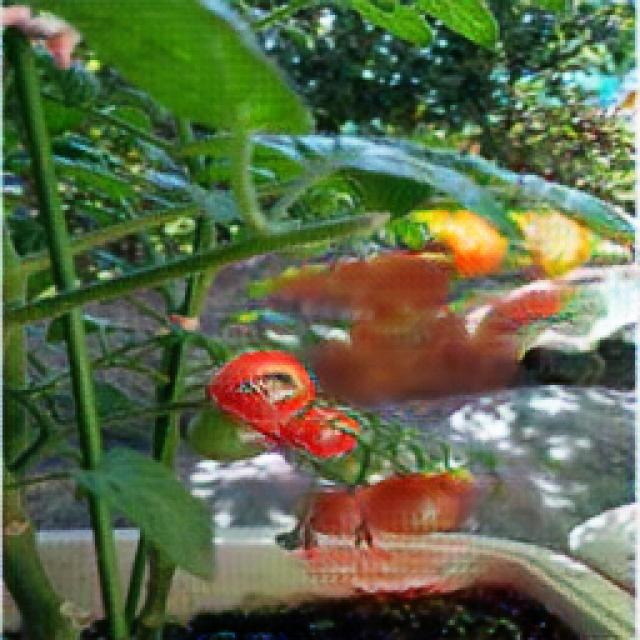overripe tomato: (208, 349, 314, 431)
